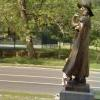Statue: (36, 3, 99, 92)
